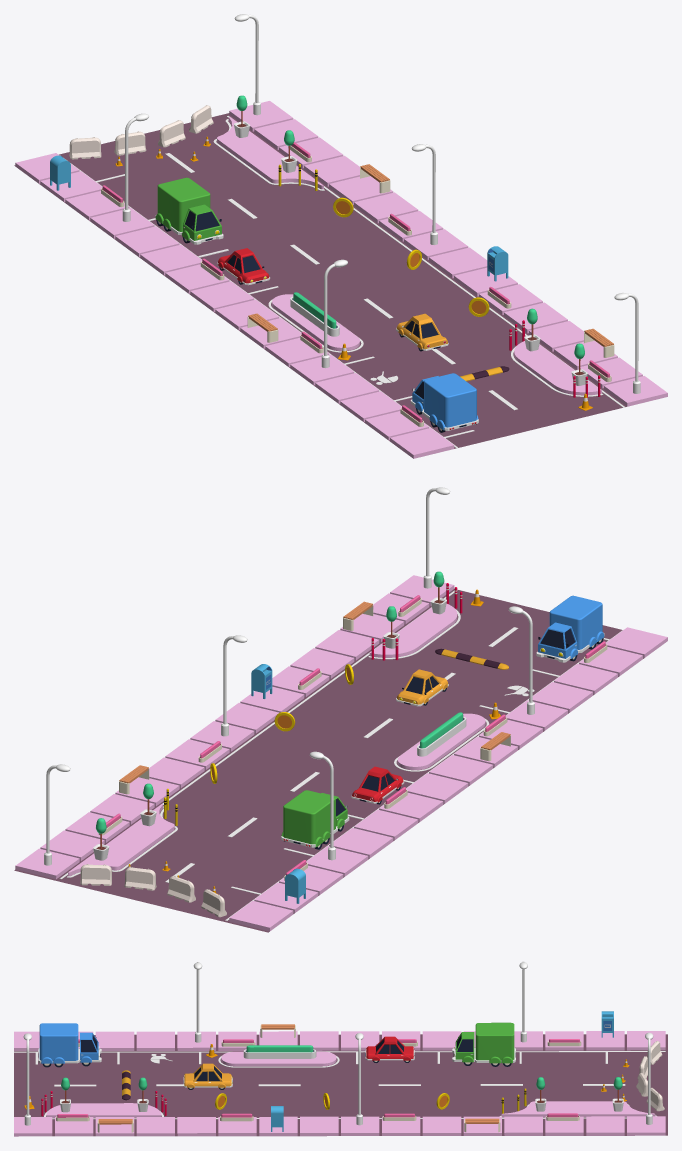
The model's file is city_street_runner.glb.
The picture shows the model from 3 angles, top to bottom: view 1: azimuth 30°, elevation 25°; view 2: azimuth 150°, elevation 25°; view 3: azimuth 270°, elevation 25°; orthographic projection. The views are drawn at different scales.
Parts seen in each view (by area): view 1: Object_3, Object_2, Object_4; view 2: Object_3, Object_2, Object_4; view 3: Object_3, Object_2, Object_4.
Part boxes in pixels (x1=…): Object_3: x1=14, y1=101, x2=667, y2=448; Object_2: x1=15, y1=95, x2=624, y2=458; Object_4: x1=60, y1=14, x2=640, y2=432; Object_3: x1=14, y1=488, x2=643, y2=932; Object_2: x1=40, y1=571, x2=667, y2=931; Object_4: x1=44, y1=487, x2=603, y2=920; Object_3: x1=14, y1=1011, x2=667, y2=1136; Object_2: x1=14, y1=1031, x2=665, y2=1135; Object_4: x1=23, y1=961, x2=665, y2=1136.
Bounding box in the file's own units: 10.98 × 4.42 × 29.87.
Materials: 1 (1 with a texture image).
